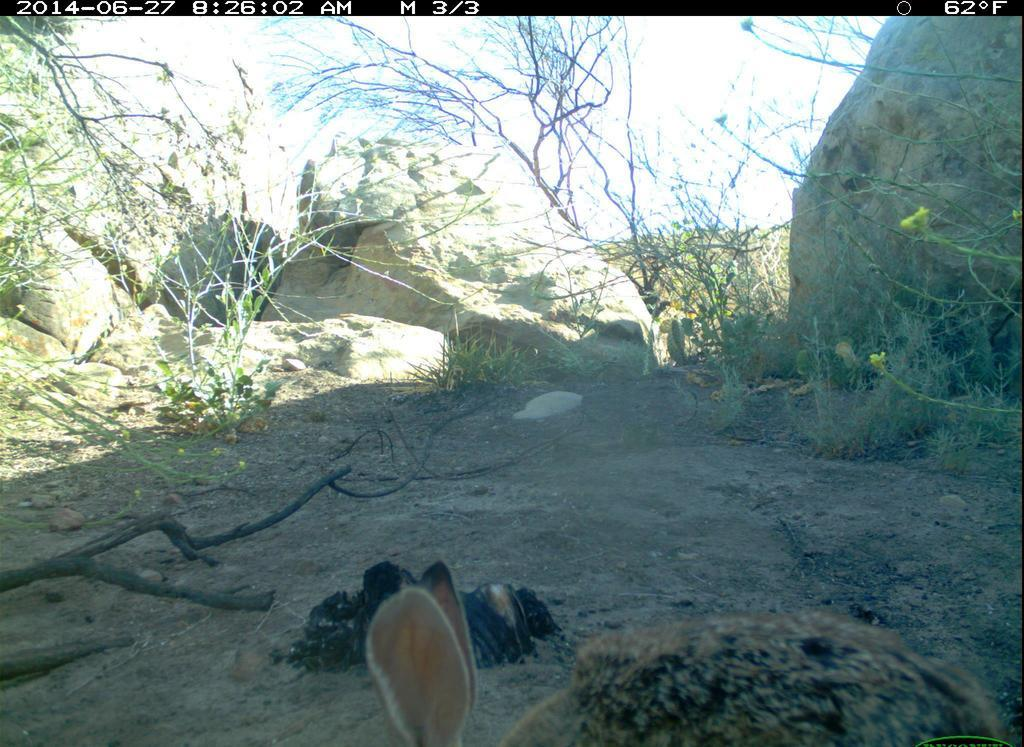rabbit: (361, 557, 1010, 747)
